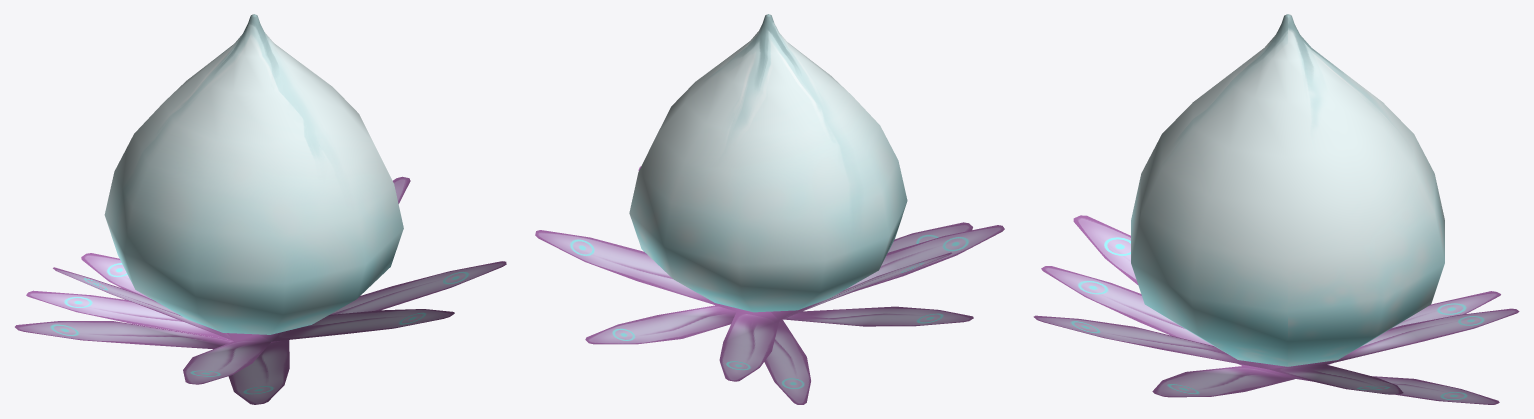
File: SM_Enviro_BudAirstream.fbx
3 views of the same model, side by side, from view 1: azimuth 30°, elevation 25°; view 2: azimuth 150°, elevation 25°; view 3: azimuth 270°, elevation 25° (orthographic). The views are drawn at different scales.
Parts seen in each view (by area): view 1: SM_Enviro_BudAirstream; view 2: SM_Enviro_BudAirstream; view 3: SM_Enviro_BudAirstream.
Part boxes in pixels (x1,y1,x2,y2): SM_Enviro_BudAirstream: (15,14,506,404); SM_Enviro_BudAirstream: (535,14,1004,404); SM_Enviro_BudAirstream: (1033,14,1519,404).
Bounding box in the file's own units: 98.58 × 70.84 × 87.8.
